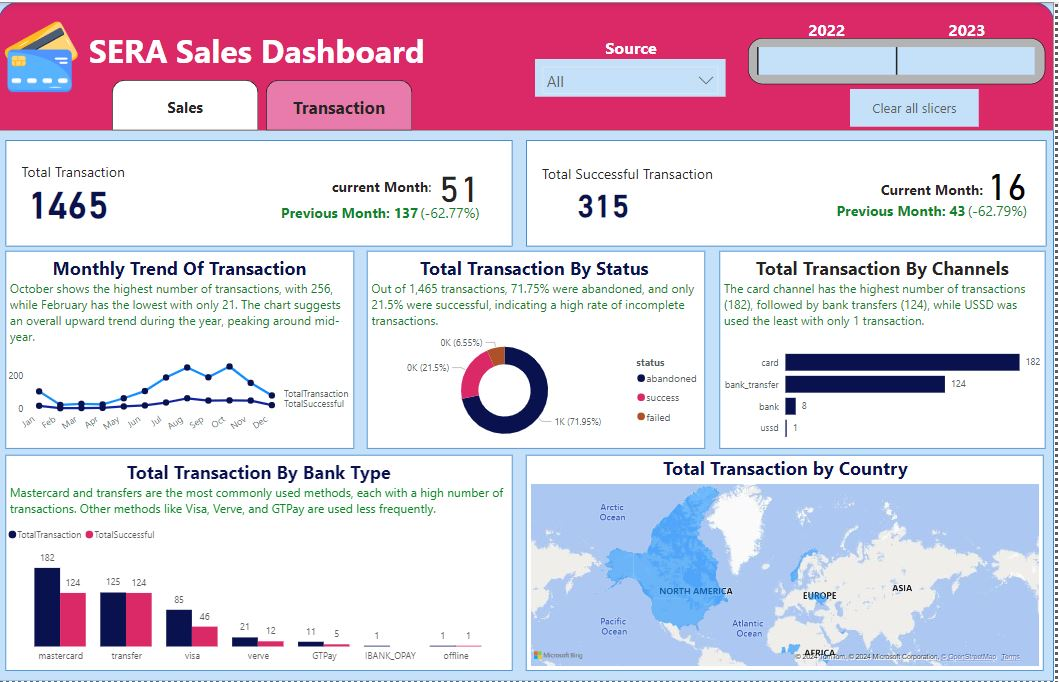

The page's visual inventory and layout, read from the dashboard file:
{"tool":"powerbi","page":{"name":"Transaction","canvas":[1400,900],"ordinal":1},"visuals":[{"type":"shape","box":[0,0,1399.7,900.7],"z":0},{"type":"textbox","box":[10,330,462,262],"z":0,"group":"g1"},{"type":"shape","box":[0,0,1399.7,171],"z":1000},{"type":"lineChart","fields":{"Category":["Date table.Month Name"],"Y":["measure.Total_transaction","measure.TotalSuccessful"]},"box":[8.1,460,464,130],"z":1000,"group":"g1"},{"type":"shape","box":[9.9,182.9,672,141.2],"z":2000},{"type":"shape","box":[699.9,182.9,689.9,141.2],"z":3000},{"type":"textbox","box":[26,206,178,48],"z":4000},{"type":"textbox","box":[437.4,226.7,226.7,77.5],"z":5000},{"type":"card","fields":{"Values":["measure.TotalSuccessfulsubscriber"]},"box":[717.8,204.8,169,123.3],"z":6000},{"type":"textbox","box":[715.8,208.8,248.5,69.6],"z":7000},{"type":"kpi","fields":{"TrendLine":["Date table.Month Name"],"Goal":["measure.PreviousMonthSubscriber"],"Indicator":["measure.CurrentMonthTotalSuccessfulTransaction"]},"box":[1073.7,186.9,300.2,141.2],"z":8000},{"type":"textbox","box":[1165.1,230.6,208.8,71.6],"z":9000},{"type":"group","id":"g1","title":"Group 2","box":[8.1,330,464,262],"z":10000},{"type":"group","id":"g2","title":"Group 3","box":[490,330,448,262],"z":11000},{"type":"group","id":"g3","title":"Group 4","box":[949.7,330,438.3,262.9],"z":12000},{"type":"actionButton","box":[1129.3,115.3,171,49.7],"z":13000},{"type":"pageNavigator","box":[151.1,103.4,399.6,67.6],"z":14000},{"type":"donutChart","fields":{"Category":["sera sales.status"],"Y":["measure.Total_transaction"]},"box":[492,436,450,158],"z":15000},{"type":"filledMap","title":"Total Transaction by Country ","fields":{"Category":["country map.Country Name"]},"box":[700,600,686,286],"z":16000},{"type":"group","id":"g4","title":"Group 1","box":[8,600,674,286],"z":17000},{"type":"card","fields":{"Values":["measure.TotalTransaction"]},"box":[8,204,170,118],"z":18000},{"type":"kpi","fields":{"TrendLine":["Date table.Month Name"],"Goal":["measure.PreviousMonthTotalTransaction"],"Indicator":["measure.CurrentMonthTotalTransaction"]},"box":[355.9,208.8,292.3,101.4],"z":19000},{"type":"advancedSlicerVisual","fields":{"Values":["Date table.Year"]},"box":[994.1,47.7,393.7,61.6],"z":20000},{"type":"textbox","box":[490,330,448,262],"z":20000,"group":"g2"},{"type":"slicer","title":"Source","fields":{"Values":["sera sales.source"]},"box":[711.8,75.6,252.5,49.7],"z":21000},{"type":"textbox","box":[1024,15.9,149.1,59.6],"z":22000},{"type":"textbox","box":[956,330,432,262],"z":22000,"group":"g3"},{"type":"textbox","box":[1204.9,15.9,159.1,83.5],"z":23000},{"type":"clusteredBarChart","fields":{"Category":["sera sales.channel"],"Y":["measure.TotalSuccessful"]},"box":[949.7,440.9,436,152],"z":23000,"group":"g3"},{"type":"textbox","box":[741.6,39.8,194.8,71.6],"z":24000},{"type":"textbox","box":[115.3,29.8,516.9,99.4],"z":25000},{"type":"image","box":[0,15.9,115.3,113.3],"z":26000},{"type":"textbox","box":[10,600,672,286],"z":26001,"group":"g4"},{"type":"clusteredColumnChart","fields":{"Category":["sera sales.card_type_group"],"Y":["measure.Total_transaction","measure.TotalSuccessful"]},"box":[8,686,674,198],"z":26501,"group":"g4"}]}

Visuals, with their boxes in screenshot pixels (x1, y1, x2, y2), scaled from the page's 1400x900 canvas onto the 1059x682 screenshot:
shape: Rect(0, 0, 1058, 681)
textbox: Rect(8, 250, 357, 449)
shape: Rect(0, 0, 1058, 130)
lineChart - Date table.Month Name x measure.Total_transaction: Rect(6, 349, 357, 447)
shape: Rect(7, 139, 516, 246)
shape: Rect(529, 139, 1051, 246)
textbox: Rect(20, 156, 154, 192)
textbox: Rect(331, 172, 502, 231)
card - measure.TotalSuccessfulsubscriber: Rect(543, 155, 671, 249)
textbox: Rect(541, 158, 729, 211)
kpi - Date table.Month Name x measure.PreviousMonthSubscriber: Rect(812, 142, 1039, 249)
textbox: Rect(881, 175, 1039, 229)
"Group 2" group: Rect(6, 250, 357, 449)
"Group 3" group: Rect(371, 250, 710, 449)
"Group 4" group: Rect(718, 250, 1050, 449)
actionButton: Rect(854, 87, 984, 125)
pageNavigator: Rect(114, 78, 417, 130)
donutChart - sera sales.status x measure.Total_transaction: Rect(372, 330, 713, 450)
"Total Transaction by Country " filledMap: Rect(530, 455, 1048, 671)
"Group 1" group: Rect(6, 455, 516, 671)
card - measure.TotalTransaction: Rect(6, 155, 135, 244)
kpi - Date table.Month Name x measure.PreviousMonthTotalTransaction: Rect(269, 158, 490, 235)
advancedSlicerVisual - Date table.Year: Rect(752, 36, 1050, 83)
textbox: Rect(371, 250, 710, 449)
"Source" slicer: Rect(538, 57, 729, 95)
textbox: Rect(775, 12, 887, 57)
textbox: Rect(723, 250, 1050, 449)
textbox: Rect(911, 12, 1032, 75)
clusteredBarChart - sera sales.channel x measure.TotalSuccessful: Rect(718, 334, 1048, 449)
textbox: Rect(561, 30, 708, 84)
textbox: Rect(87, 23, 478, 98)
image: Rect(0, 12, 87, 98)
textbox: Rect(8, 455, 516, 671)
clusteredColumnChart - sera sales.card_type_group x measure.Total_transaction: Rect(6, 520, 516, 670)
